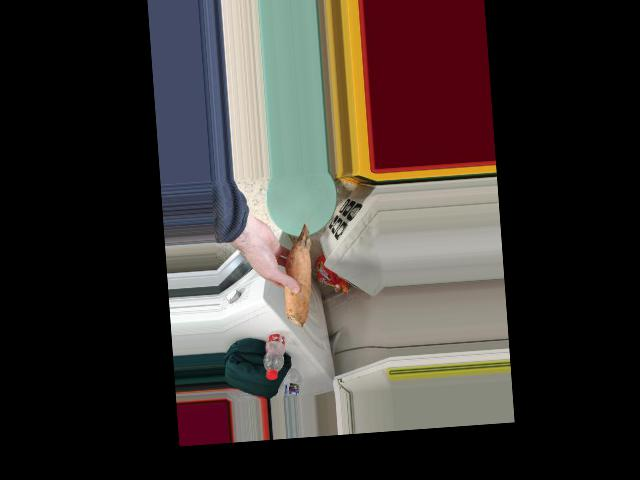sweet_potato: (284, 217, 318, 331)
